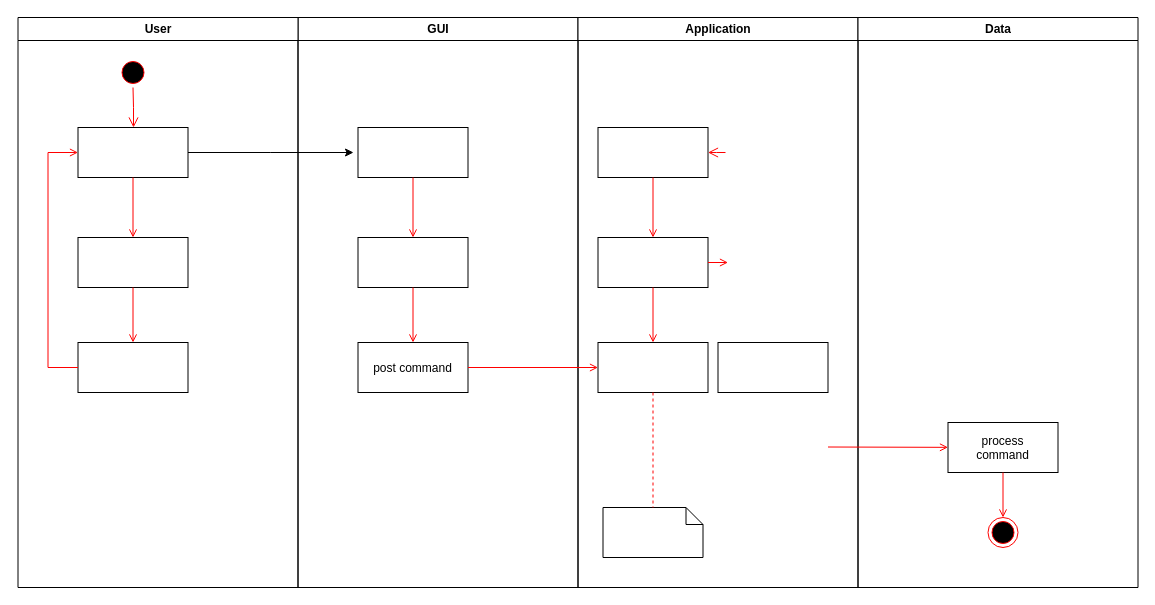
The diagram is 1155 pixels wide and 605 high, and some of its shapes have lost their labels. Each missing label, with the centre of its shape:
Initial: the point at 132,72
Запуск приложения: the point at 132,152
Окно начало работы: the point at 412,152
